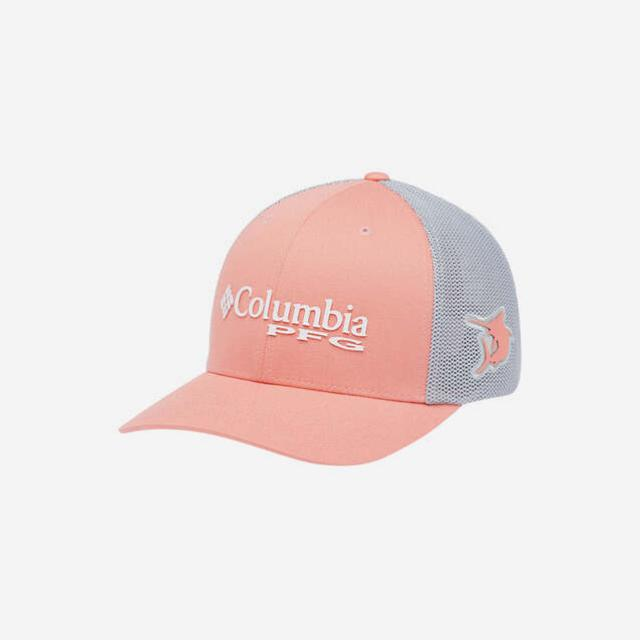Nonhelmet: (116, 168, 525, 468)
